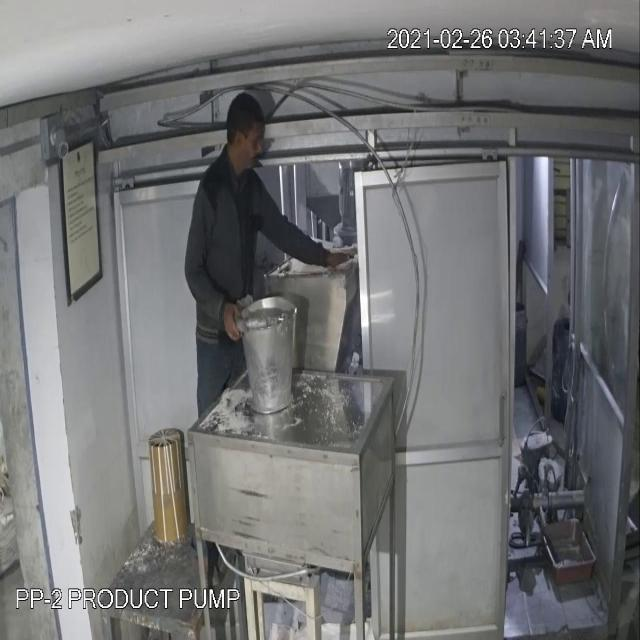no-helmet: (223, 88, 267, 177)
